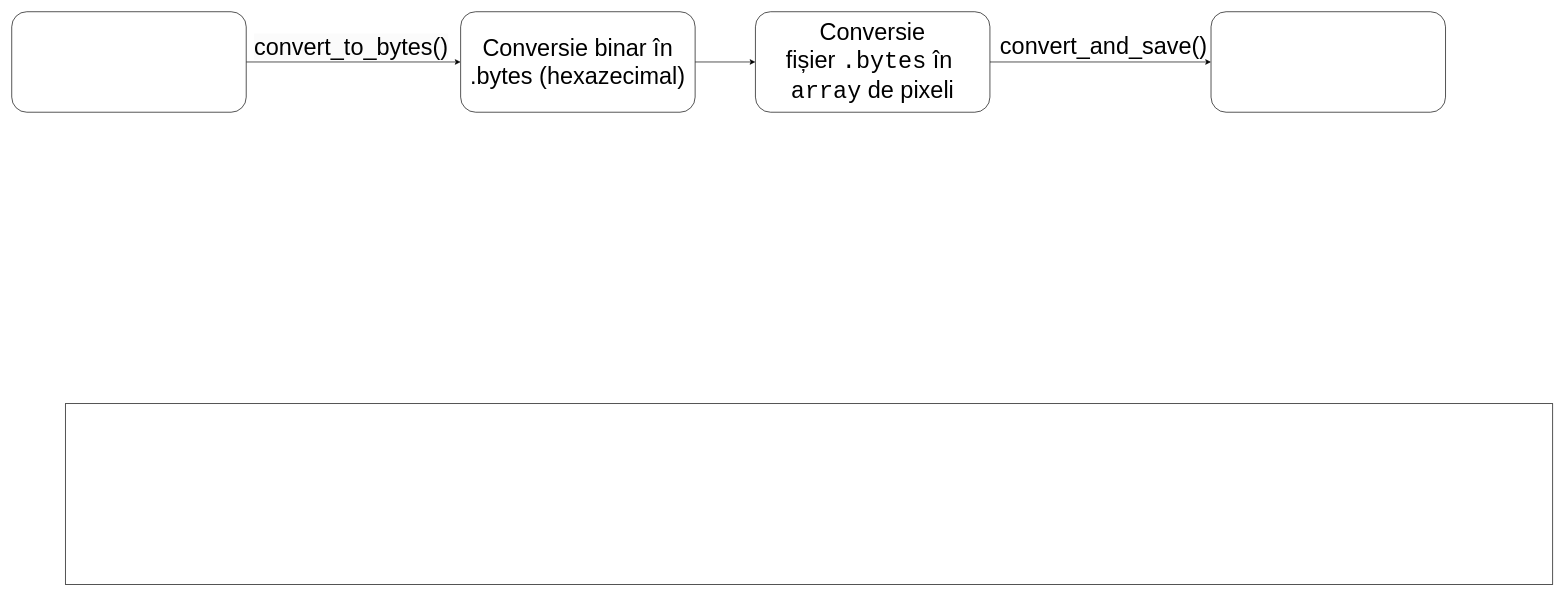
Some shapes in this 1564 by 596 pixel diagram are drawn without their labels. Each missing label, with the centre of its shape:
"Conversie array în imagine" goes at (x=1328, y=61).
"Fișier încărcat" goes at (x=128, y=61).
